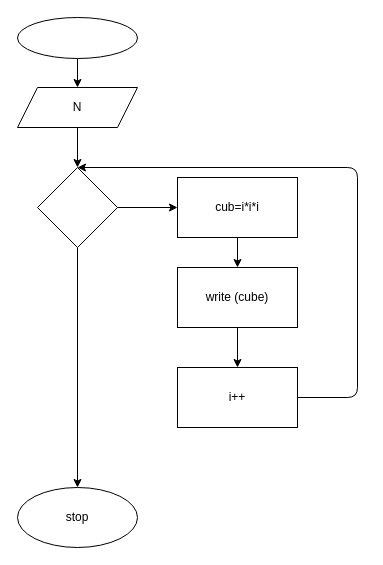
This 383x565 diagram has some shape labels left out. Here are the shapes that lost their labels. From the top down, the centre of each, then its label:
At point 77,37: "star".
At point 77,207: "while i<n".
